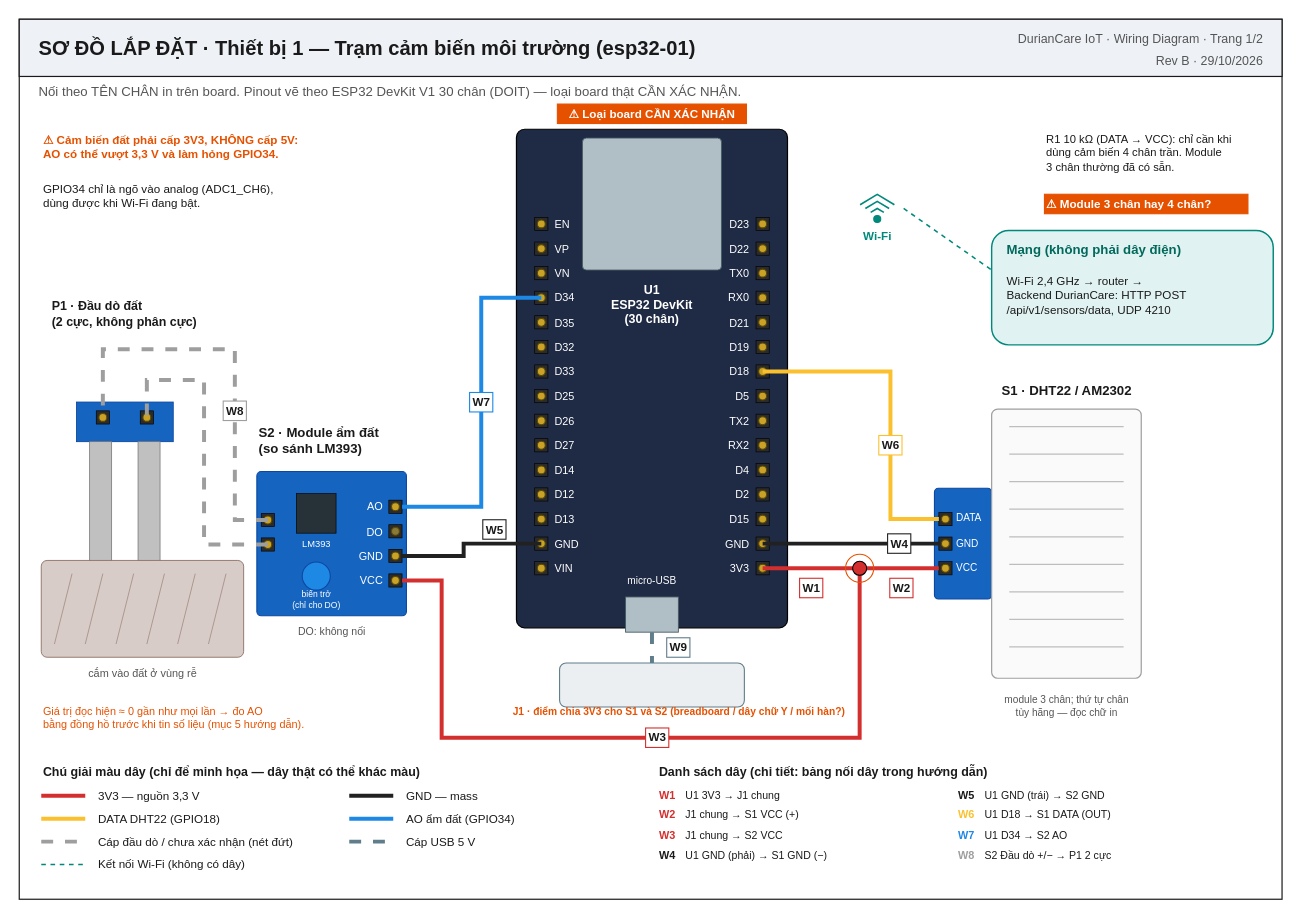
The diagram is 1308 pixels wide and 920 high, and some of its shapes have lost their labels. Here are the shapes that lost their labels. From the top down, the box of each, then its label:
(581, 137, 721, 270): ESP32 WROOM-32
(558, 662, 744, 707): PS1 · Nguồn USB 5 V
